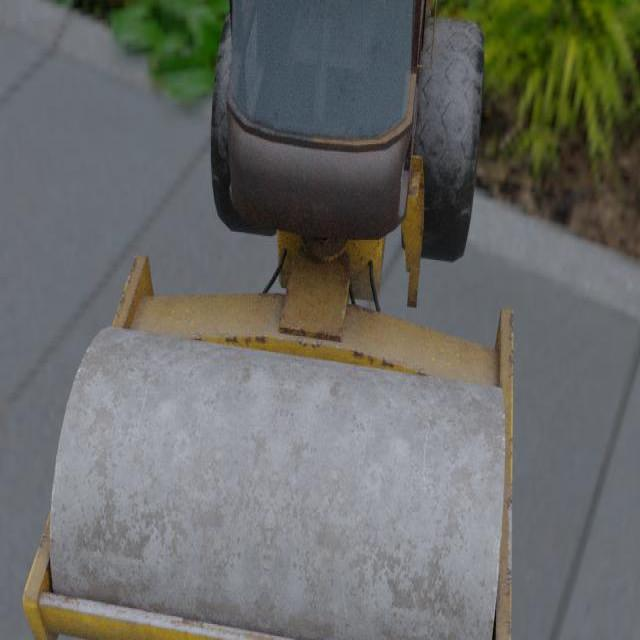Roller: (22, 0, 513, 640)
